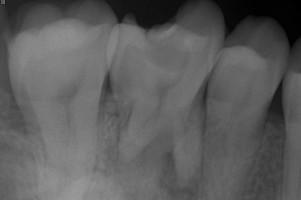Furcation Involvement: (159, 151, 202, 200)
